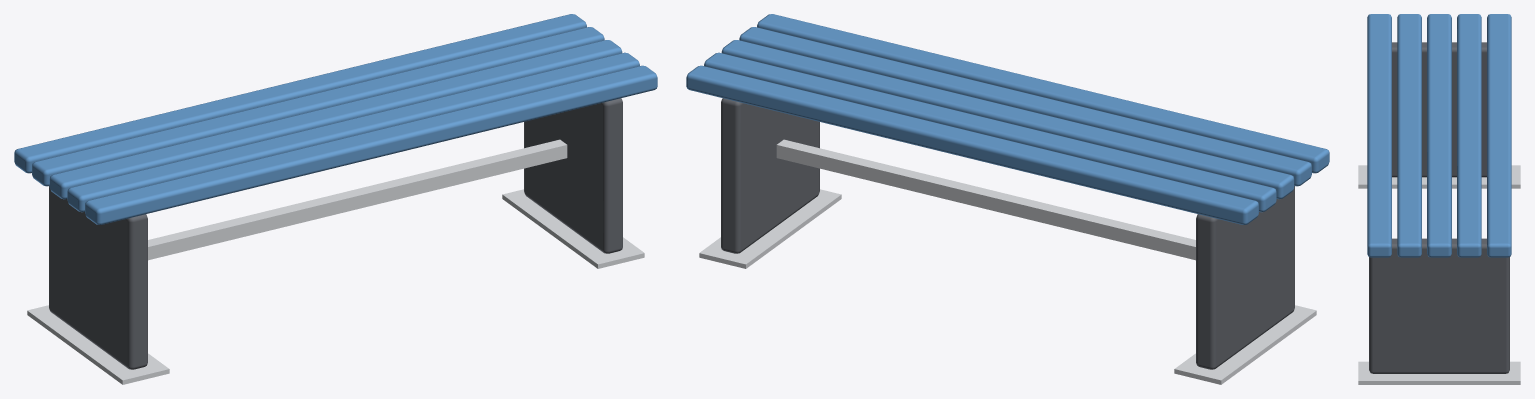
3 views of the same model, side by side, from view 1: azimuth 30°, elevation 25°; view 2: azimuth 150°, elevation 25°; view 3: azimuth 270°, elevation 25° (orthographic). The views are drawn at different scales.
Visible parts, largest first — view 1: gallery-bench-blue; view 2: gallery-bench-blue; view 3: gallery-bench-blue.
Boxes of the visible parts, x1,y1,x2,y2 form: gallery-bench-blue: (14,14,657,384); gallery-bench-blue: (686,14,1329,384); gallery-bench-blue: (1358,14,1520,384).
Size of the model in its own units: 1.56 by 0.465 by 0.4601.
